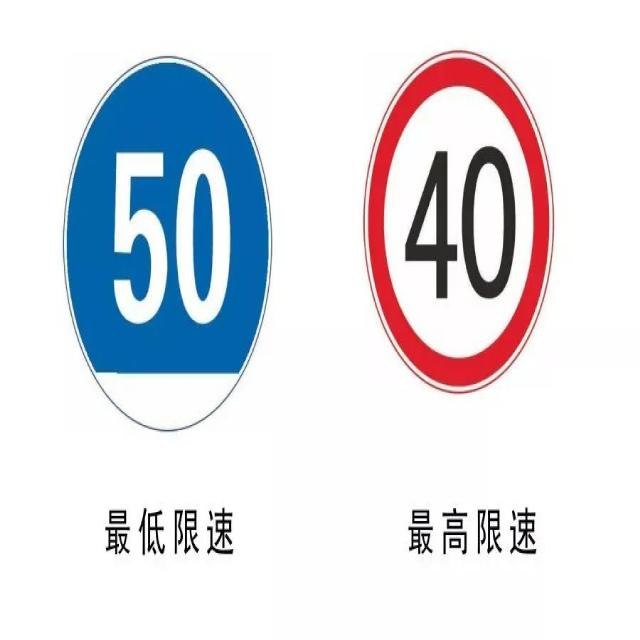speed limit 40: (362, 49, 555, 392)
speed limit 50: (61, 58, 273, 435)
